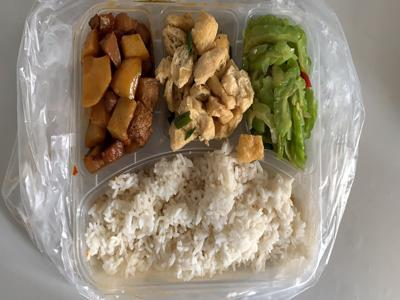jrtd: (74, 9, 159, 165)
rice: (87, 153, 305, 282)
